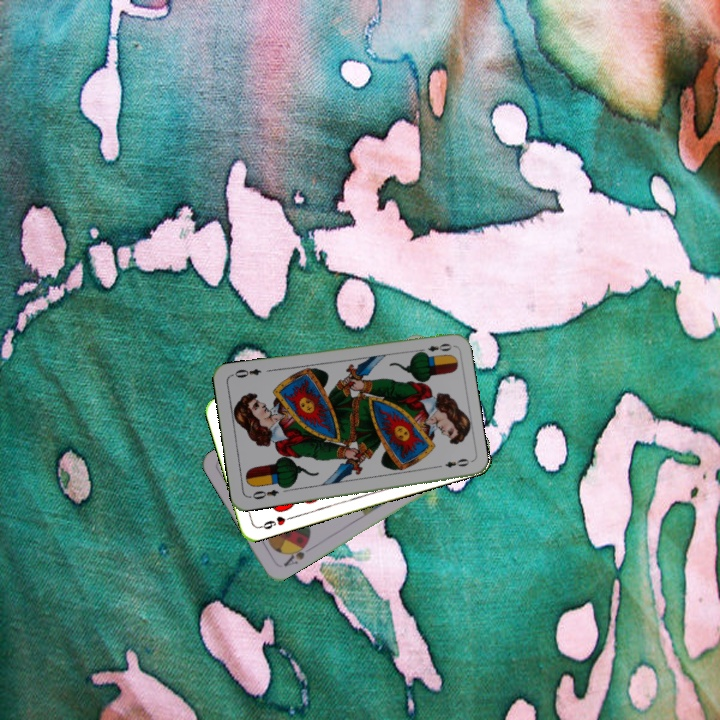EO: (414, 339, 454, 357), (245, 486, 281, 502)
H9: (255, 512, 295, 532)
SA: (279, 538, 311, 569)
